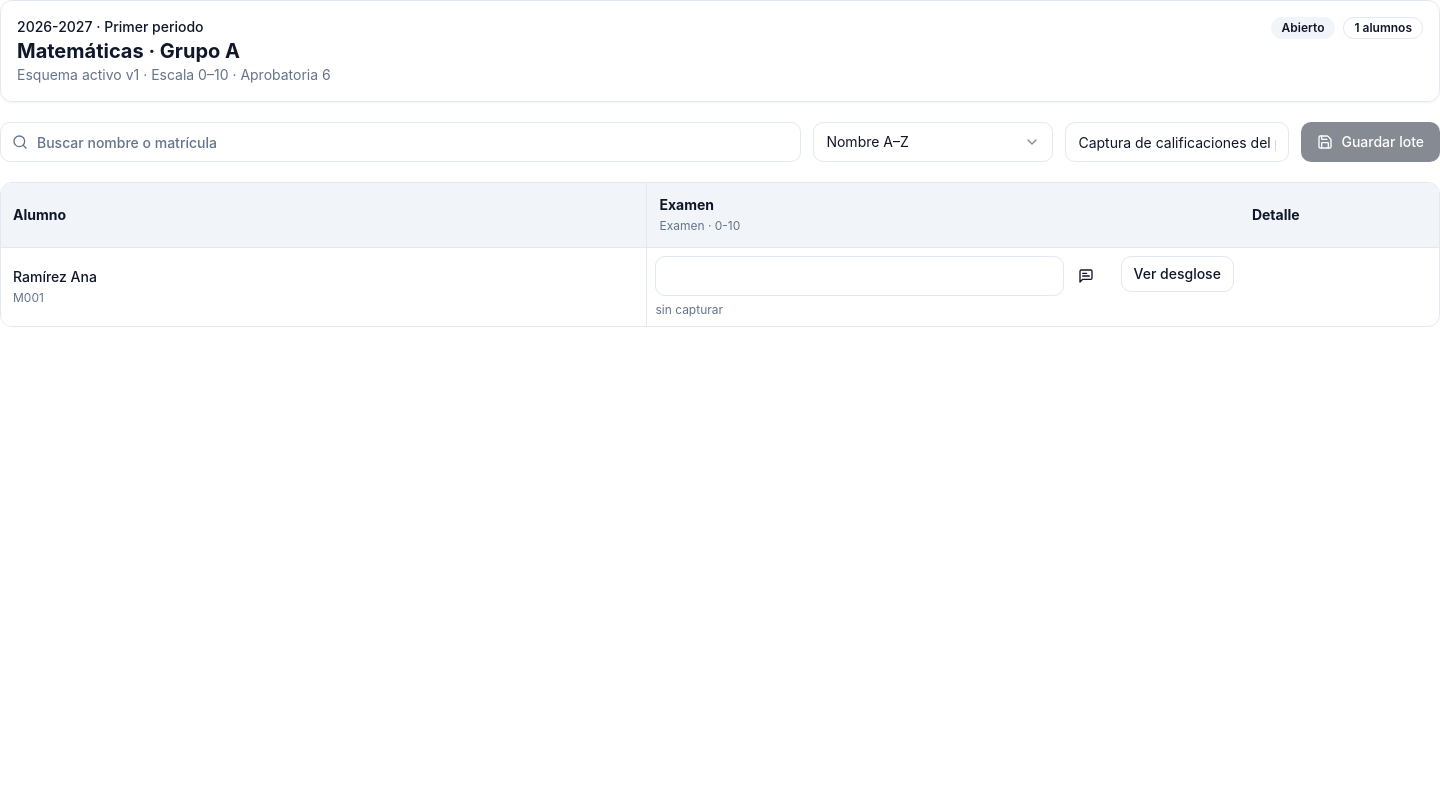
Scenario: Paso 11: editor accesible y explícito › ante conflicto no sobrescribe y exige decisión de conciliación
Type "9" into the number field named "Ramírez Ana, Examen, calificación de 0 a 10" at [860, 276], box [656, 256, 1064, 296]
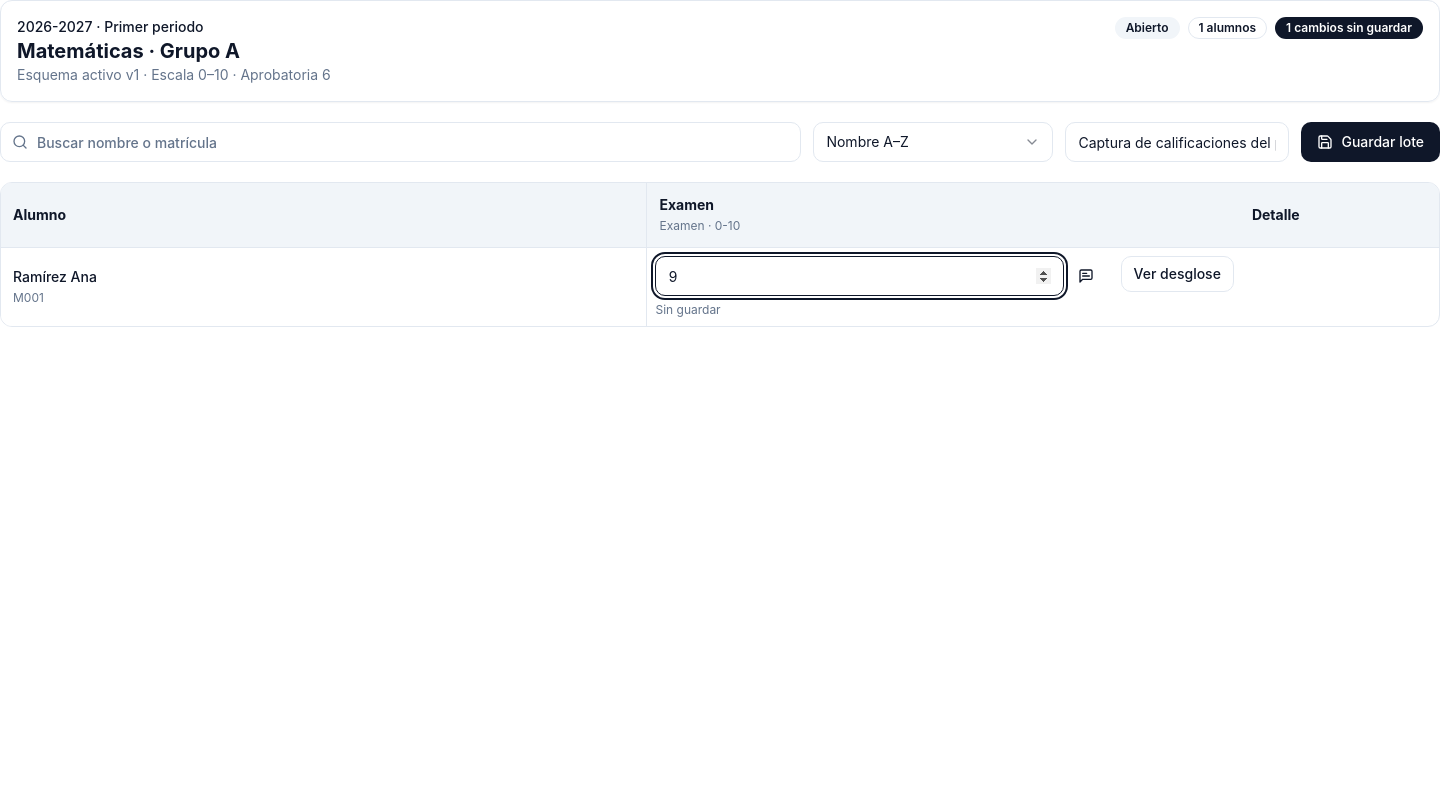
Click the button "Guardar lote" at [1371, 142], box [1301, 122, 1439, 162]
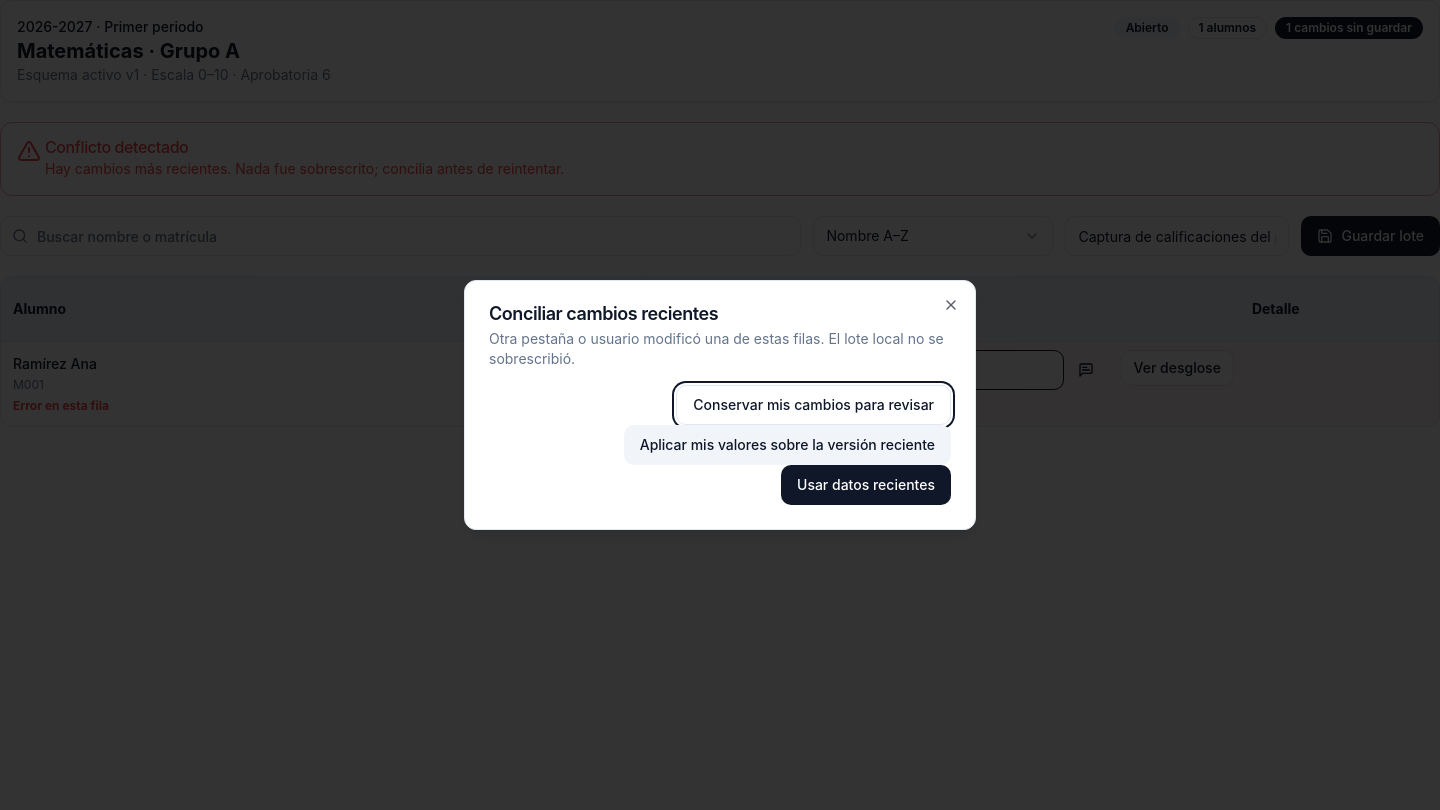
Check: the heading "Conciliar cambios recientes" is shown, box [489, 303, 718, 324]
Click the button "Aplicar mis valores sobre la versión reciente" at [787, 445], box [624, 425, 951, 465]
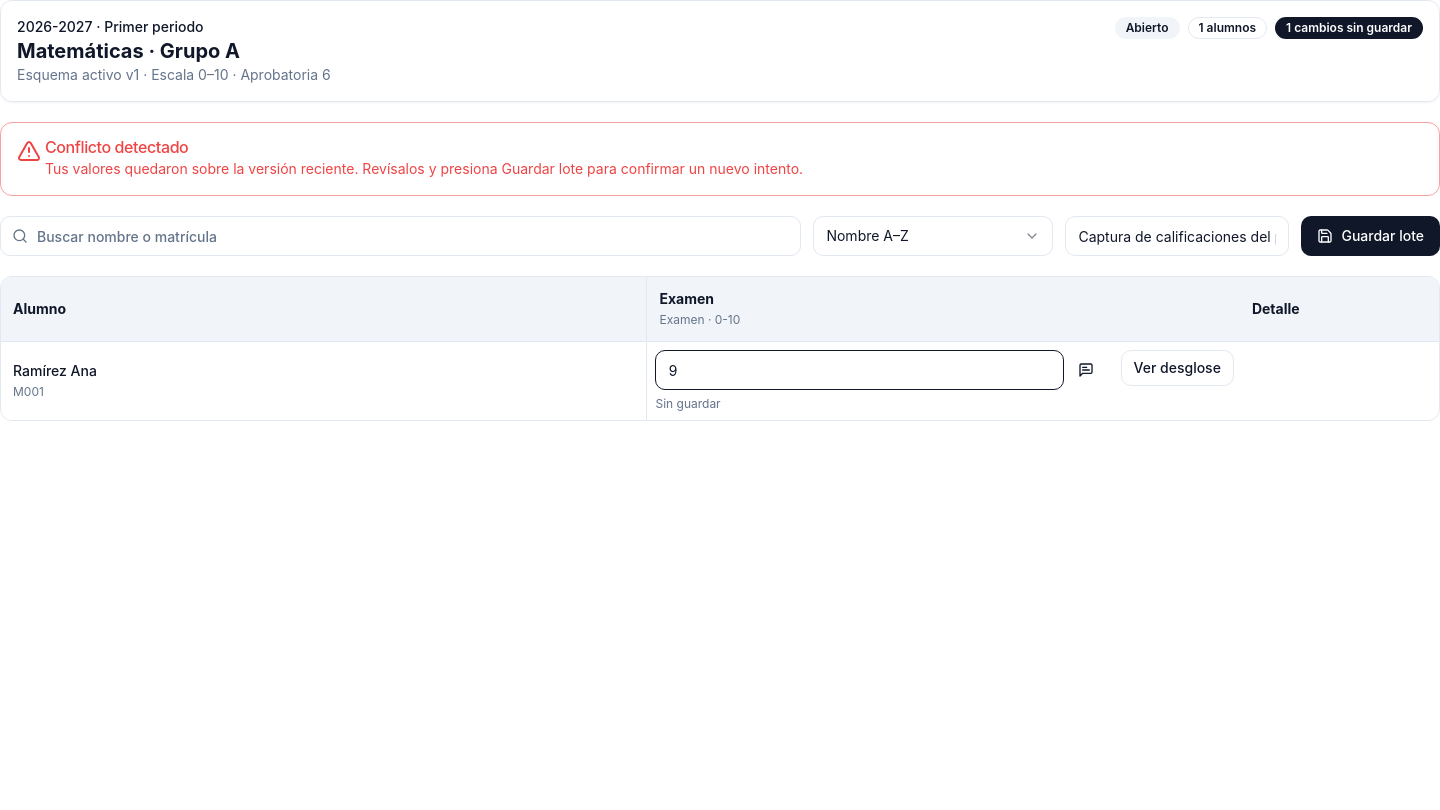
Check: the text "Tus valores quedaron sobre la versión reciente" is shown, box [45, 160, 803, 177]
